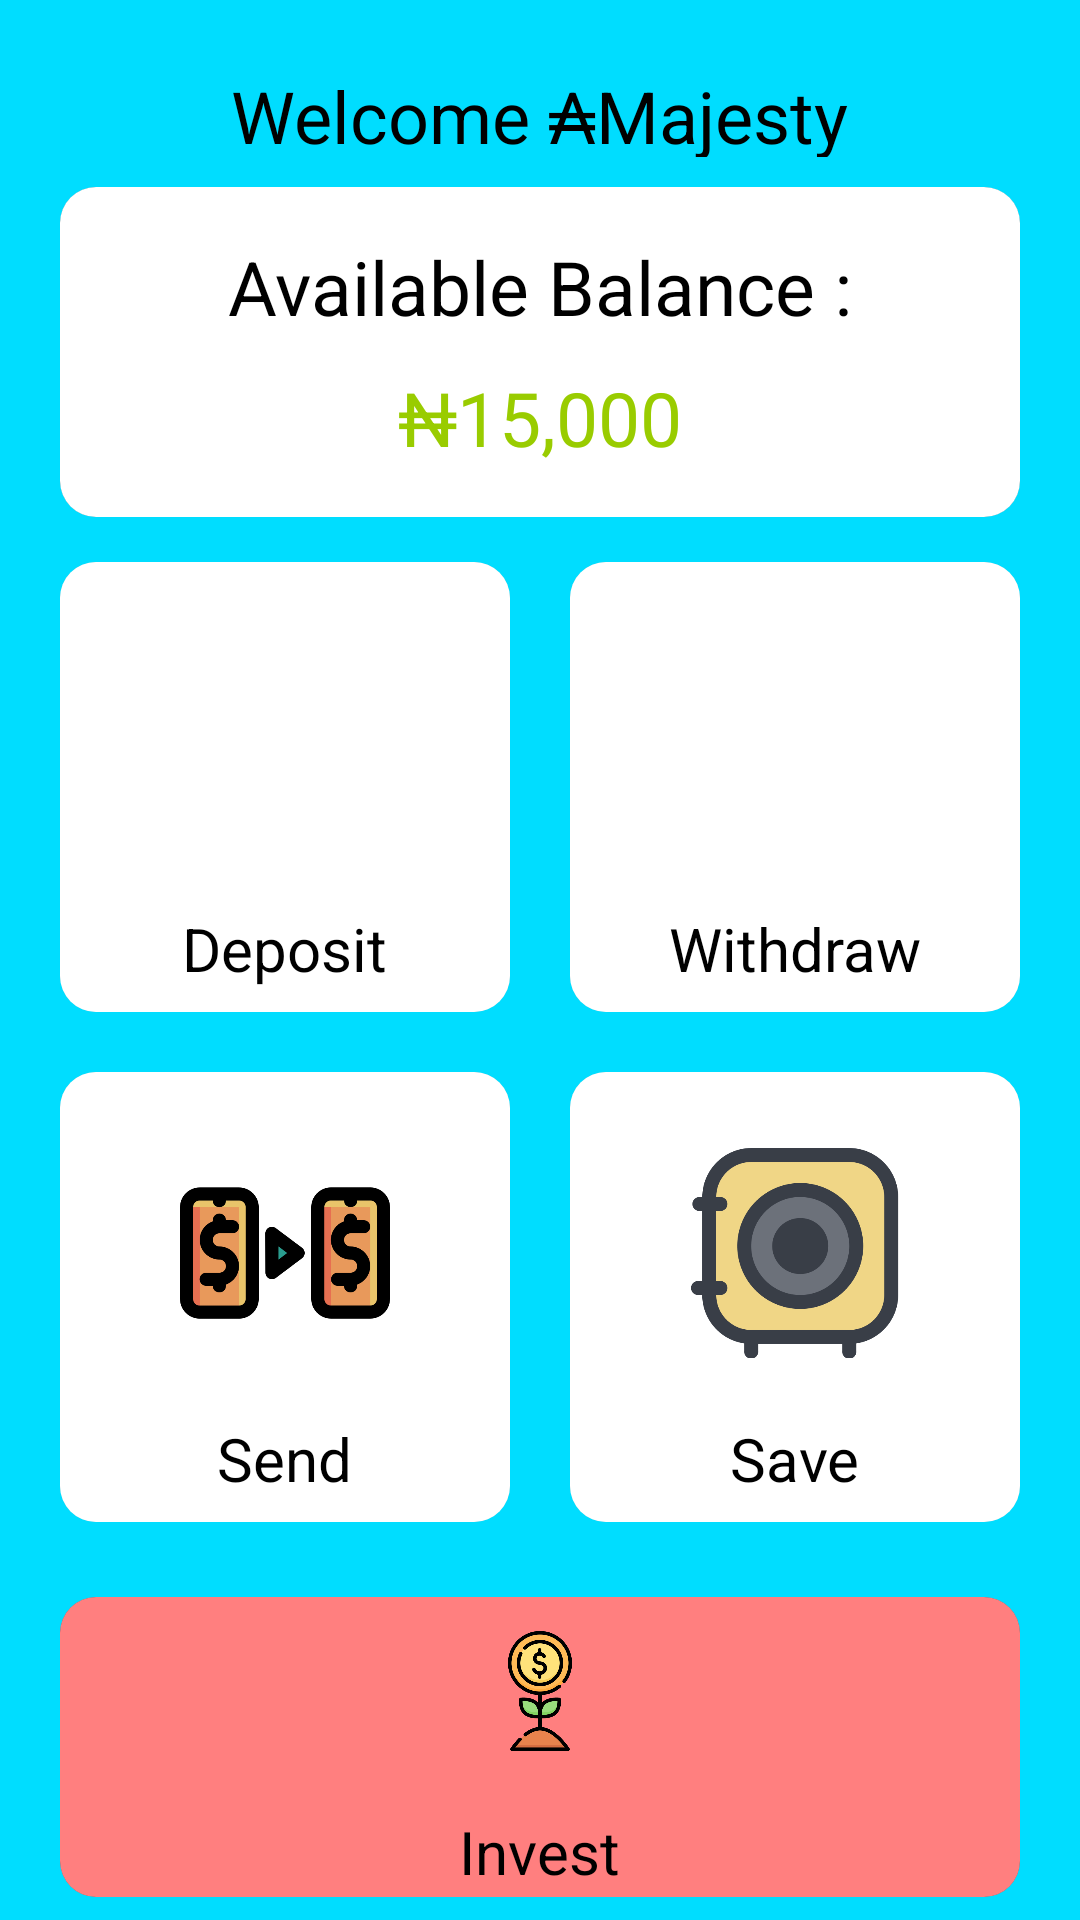

Where icons sit on this 1080w x 1920h app screen, as (x1, y1, x2, y2):
transfer: (180, 1187, 390, 1319)
